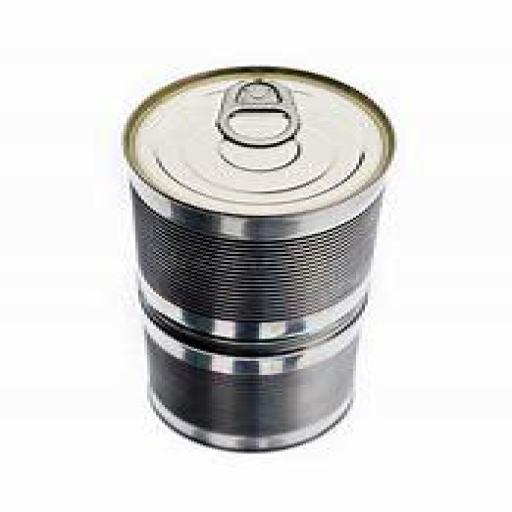can: (121, 65, 398, 452)
pop tab: (215, 78, 302, 148)
